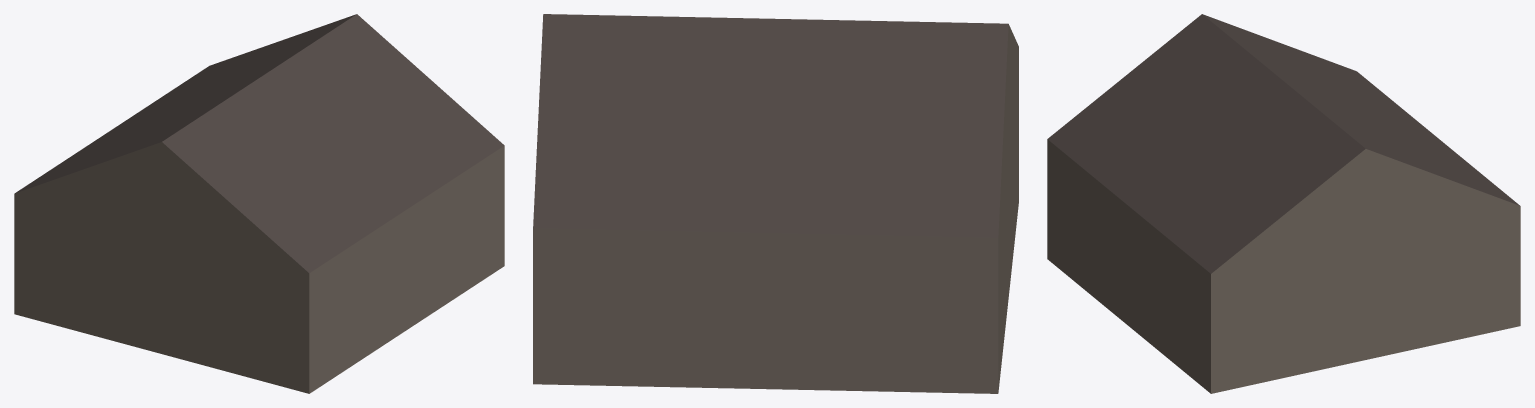
3 views of the same model, side by side, from view 1: azimuth 30°, elevation 25°; view 2: azimuth 150°, elevation 25°; view 3: azimuth 270°, elevation 25° (orthographic). The views are drawn at different scales.
Parts seen in each view (by area): view 1: HP-w859457353; view 2: HP-w859457353; view 3: HP-w859457353.
Part boxes in pixels (left/top/right/bottom): HP-w859457353: left=14, top=14, right=504, bottom=393; HP-w859457353: left=533, top=14, right=1018, bottom=393; HP-w859457353: left=1047, top=14, right=1520, bottom=393.
Bounding box in the file's own units: 21.72 × 10.56 × 21.44.
